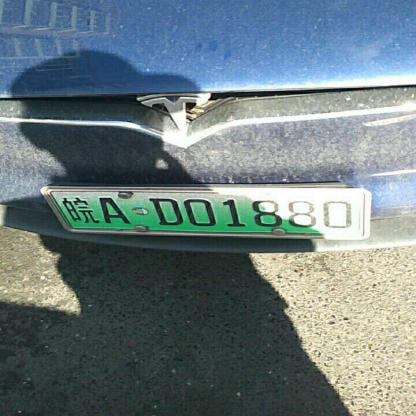lp: (44, 192, 71, 239)
